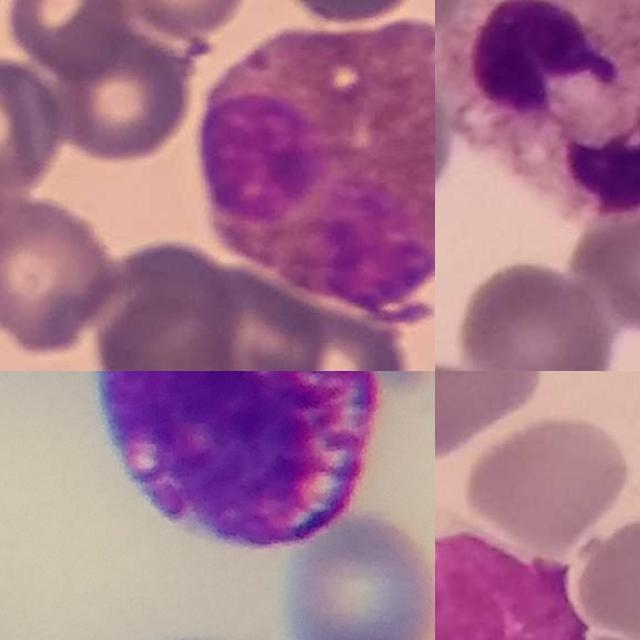Basophil: (95, 371, 379, 549)
Eosinophil: (199, 23, 435, 307)
Monocyte: (435, 517, 589, 640)
Neutrophil: (436, 0, 640, 218)
